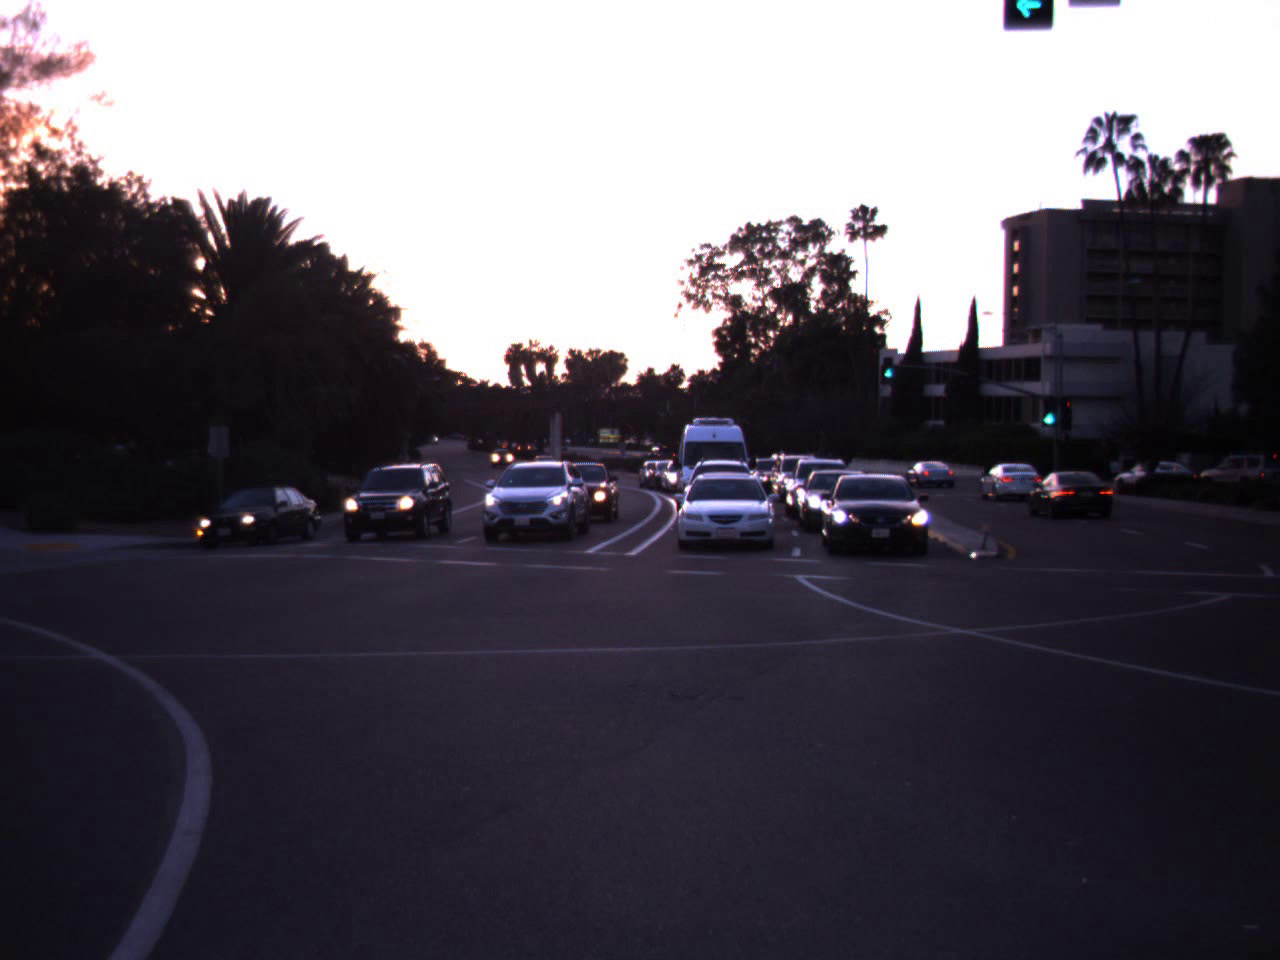go: (1029, 371, 1068, 431), (876, 333, 900, 383)
